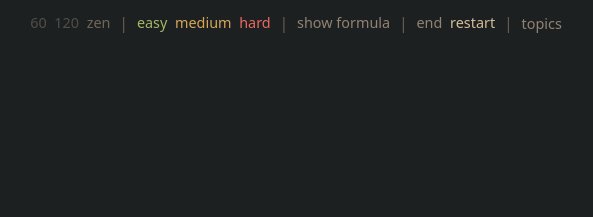
it: ControlBar topics menu › expands subtopics immediately on arrow click
Click the button "topics" at (542,24), box top-left (522, 17), bottom-right (562, 31)
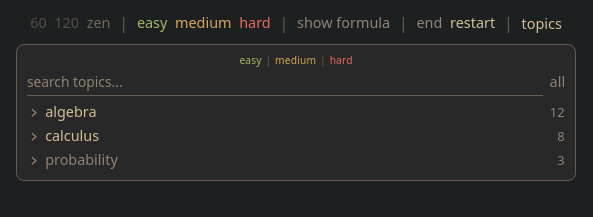
Expected: the text "fundamentals" is not shown
Click the button named "Expand algebra" at (33,113), box top-left (27, 107), bottom-right (40, 118)
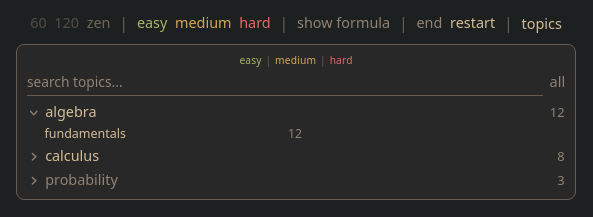
Expected: the text "fundamentals" is shown, top-left (44, 125), bottom-right (126, 142)
